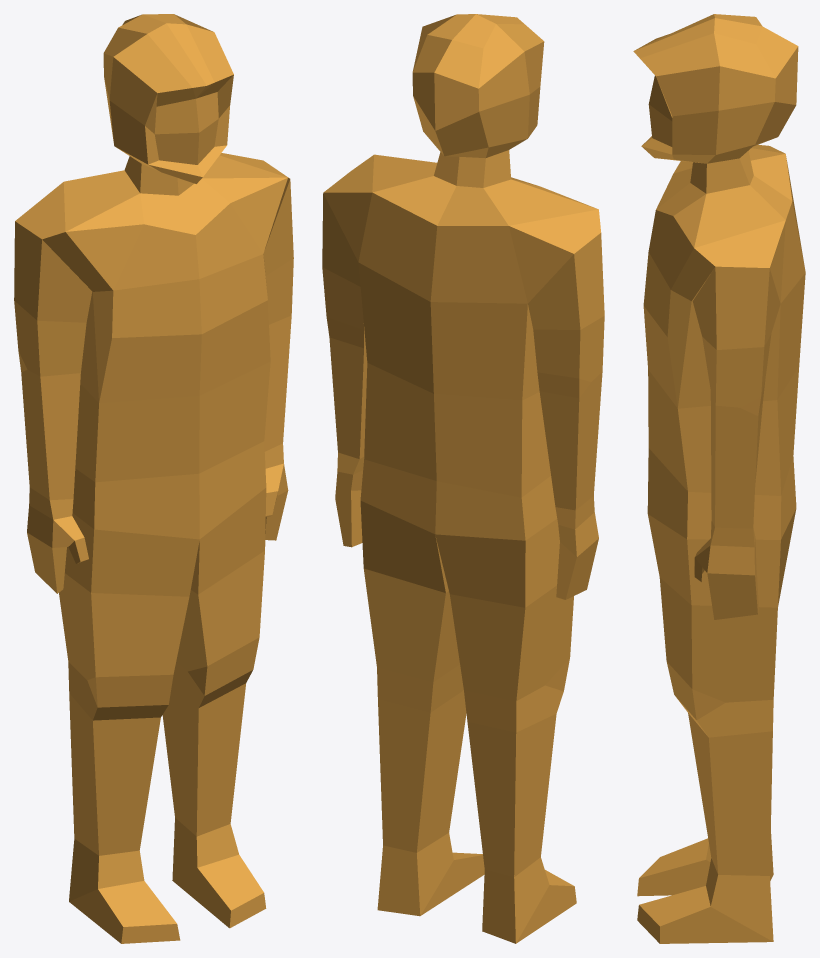
The model's file is man-football.fbx.
3 renders of one model, left to right at view 1: azimuth 30°, elevation 25°; view 2: azimuth 150°, elevation 25°; view 3: azimuth 270°, elevation 25°, orthographic.
Visible parts, largest first — view 1: man-football; view 2: man-football; view 3: man-football.
Part boxes in pixels (x1,y1,x2,y2): man-football: [14, 14, 293, 943]; man-football: [322, 14, 604, 943]; man-football: [633, 14, 805, 943].
Size of the model in its own units: 0.5602 by 1.84 by 0.3233.
